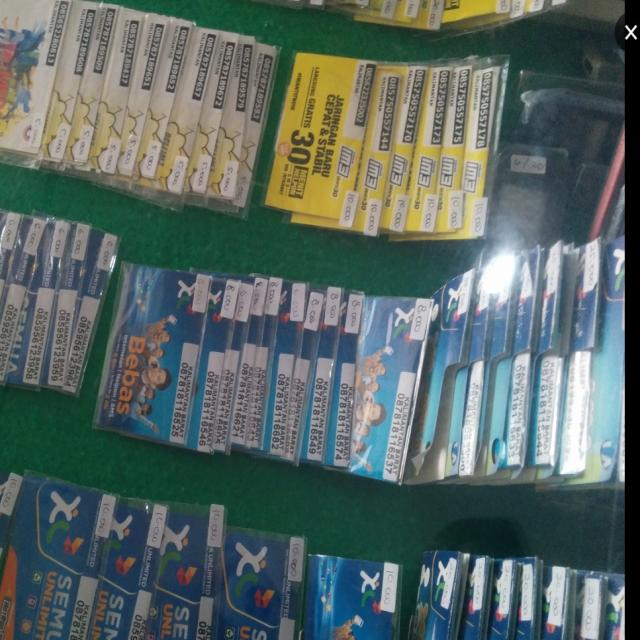Gratis Nelpon: (121, 256, 422, 484), (427, 248, 630, 477), (0, 500, 288, 640), (311, 553, 623, 640), (1, 212, 93, 412)
Indosat: (2, 1, 256, 209)
im3: (273, 44, 515, 236)
